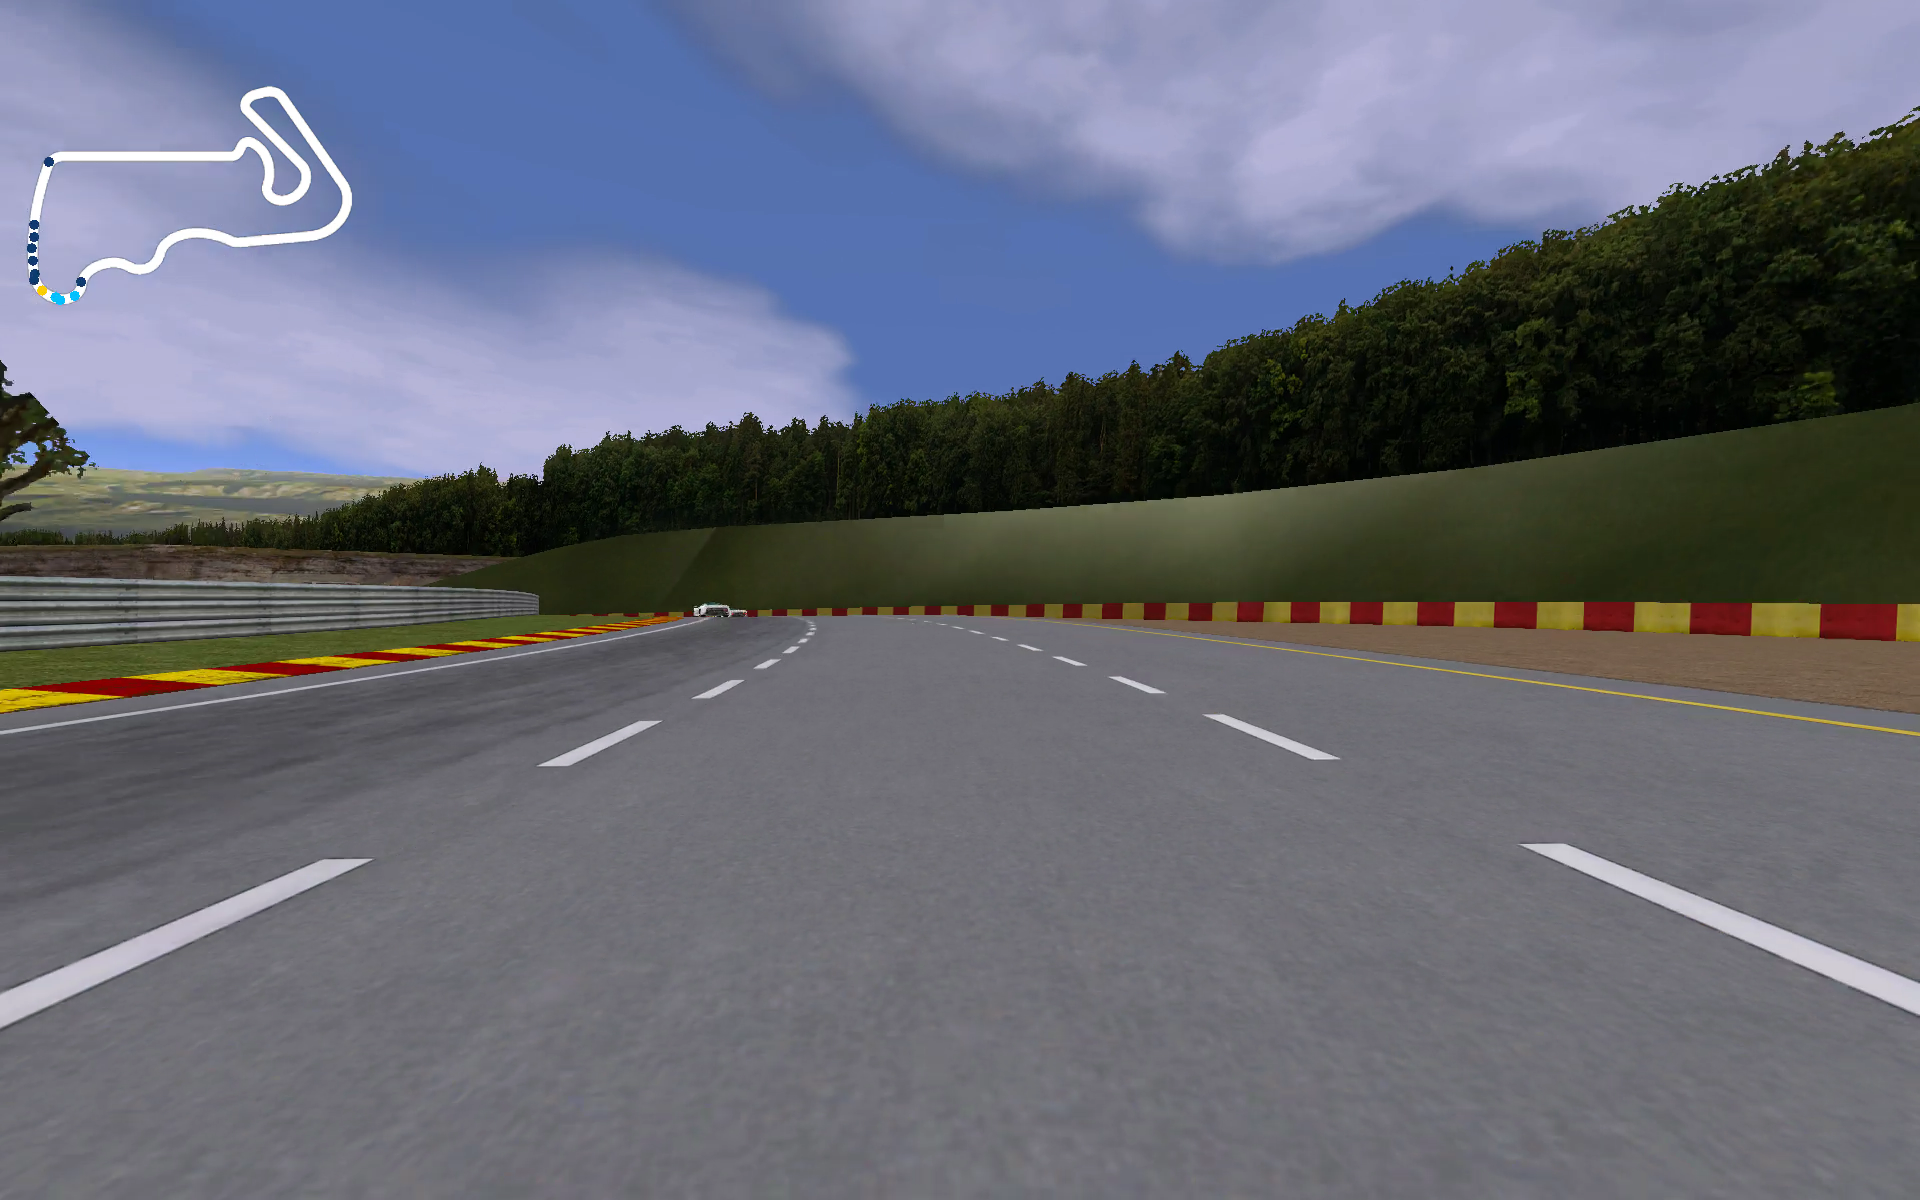car: (690, 600, 733, 622)
